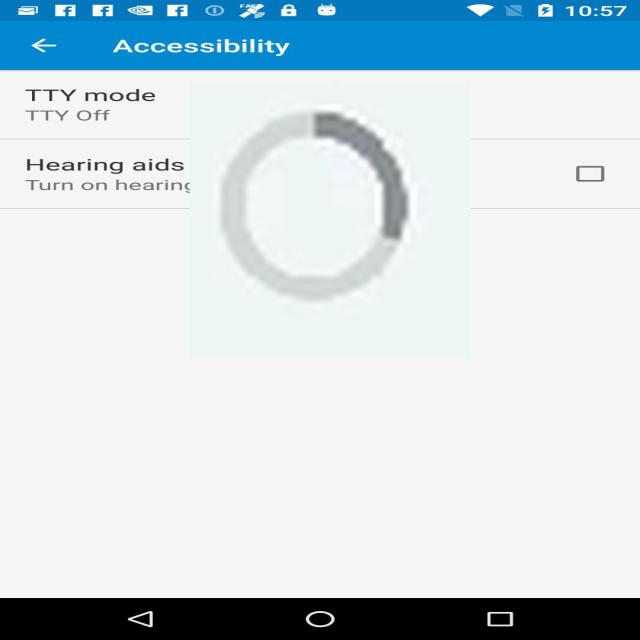misdirection: (190, 82, 470, 358)
